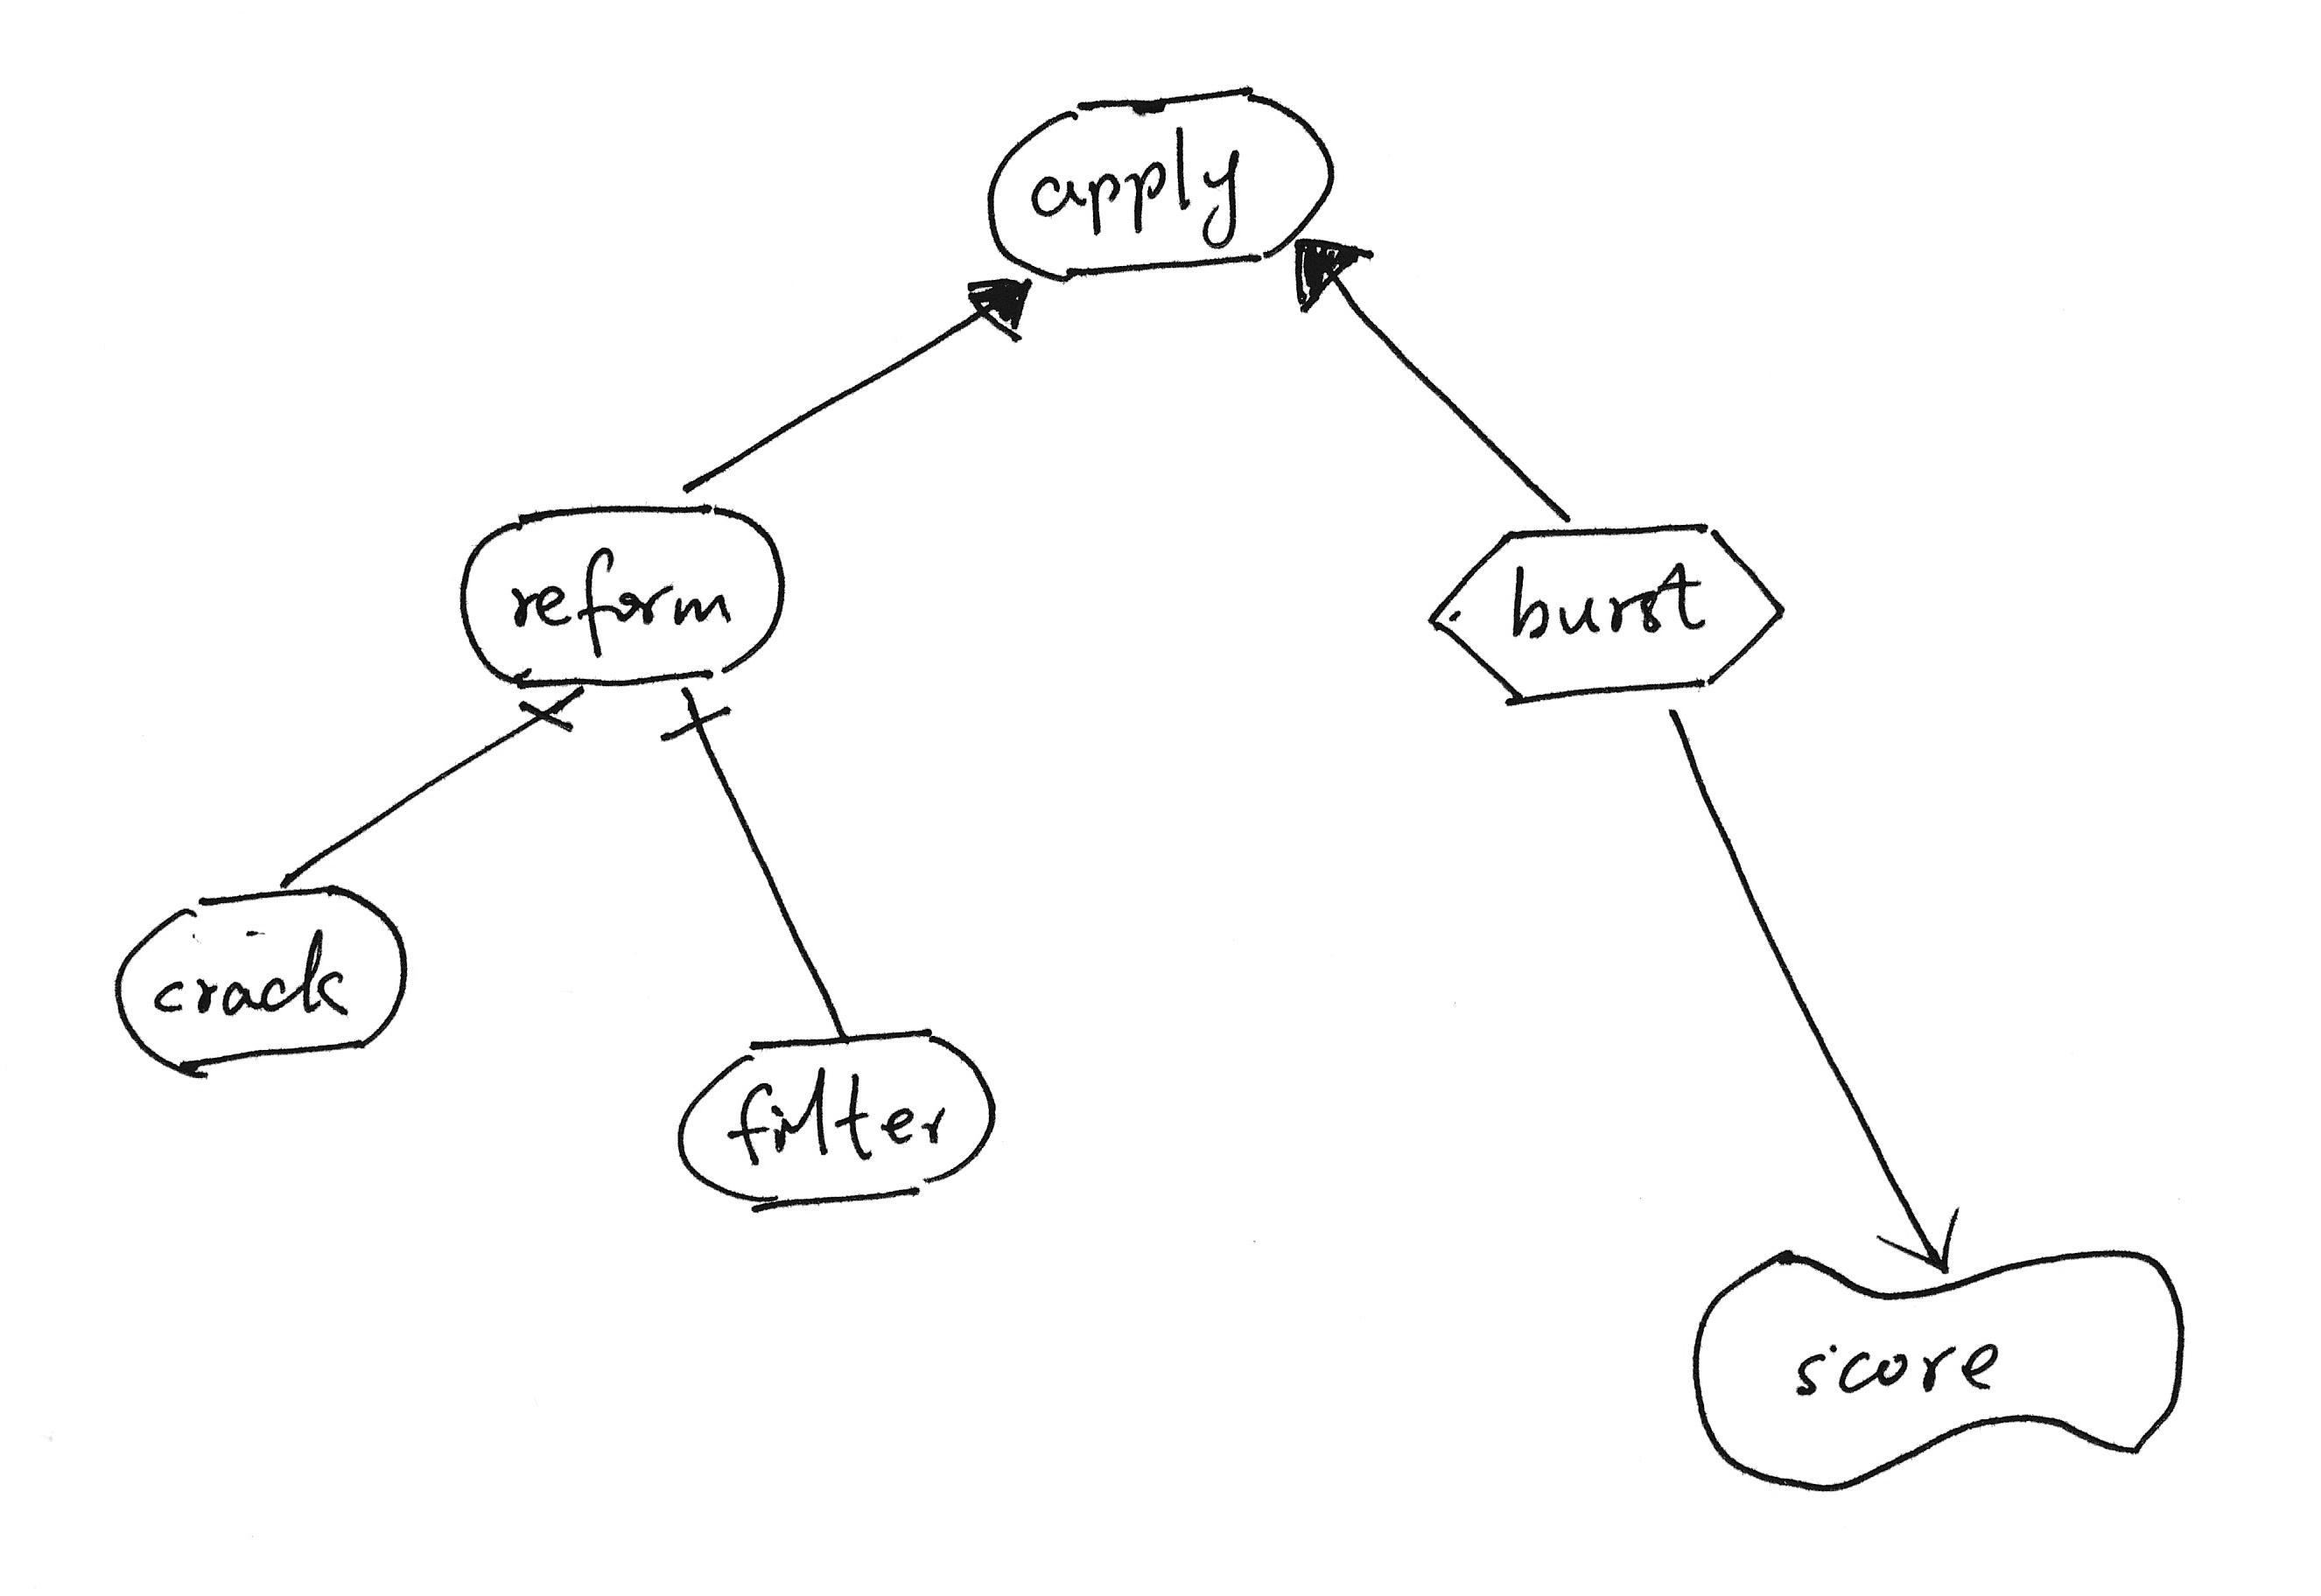and: (506, 688, 593, 765), (654, 684, 746, 757)
arrow: (1857, 1190, 1977, 1286)
goal: (972, 65, 1346, 291), (660, 1016, 1018, 1226), (448, 485, 799, 698), (90, 875, 429, 1092)
or: (1277, 227, 1384, 323), (949, 265, 1042, 365)
quality: (1677, 1227, 2205, 1501)
task: (1399, 504, 1806, 716)
